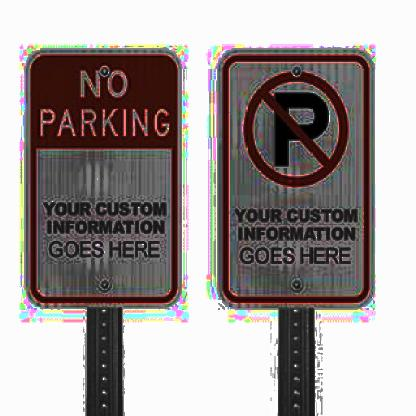No parking: (232, 71, 348, 187)
